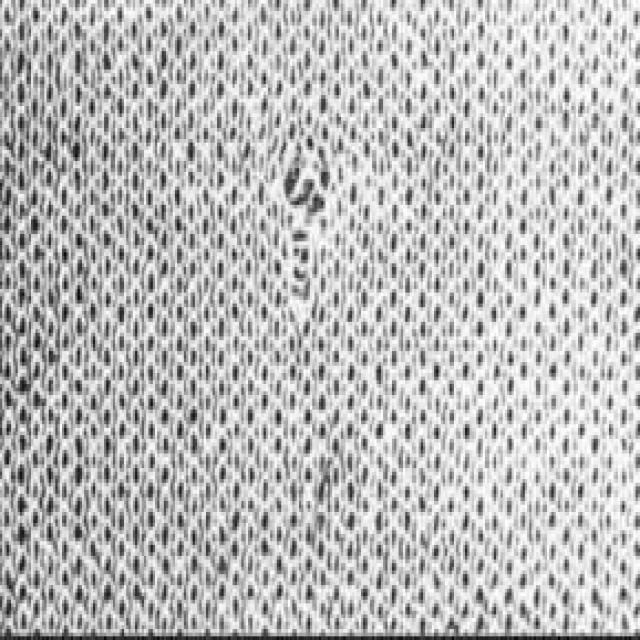seam: (224, 96, 379, 240)
